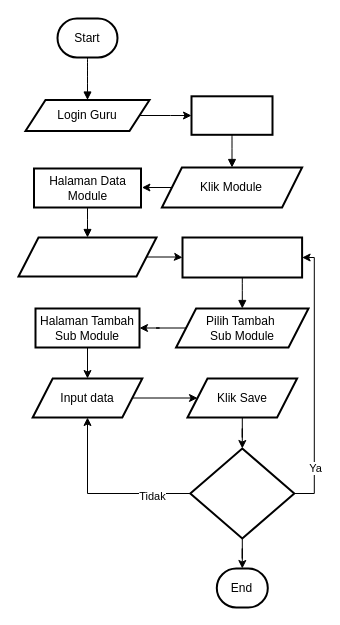
This 340x625 diagram has some shape labels left out. The shapes that lost their labels are listed below. From the top down, each one's centre as x and y in pixels, then its label:
pixel 231 115: Dashboard
pixel 87 256: Pilih Module
pixel 242 257: Halaman Sub Module
pixel 242 493: Berhasil tambah?
